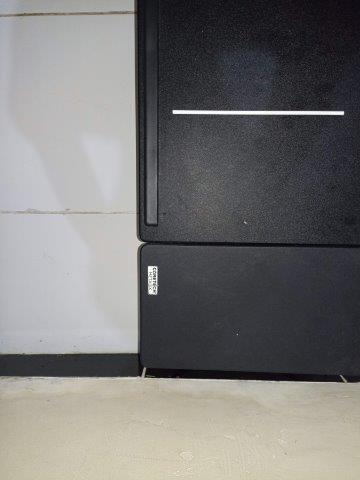sedotan: (172, 109, 344, 116)
